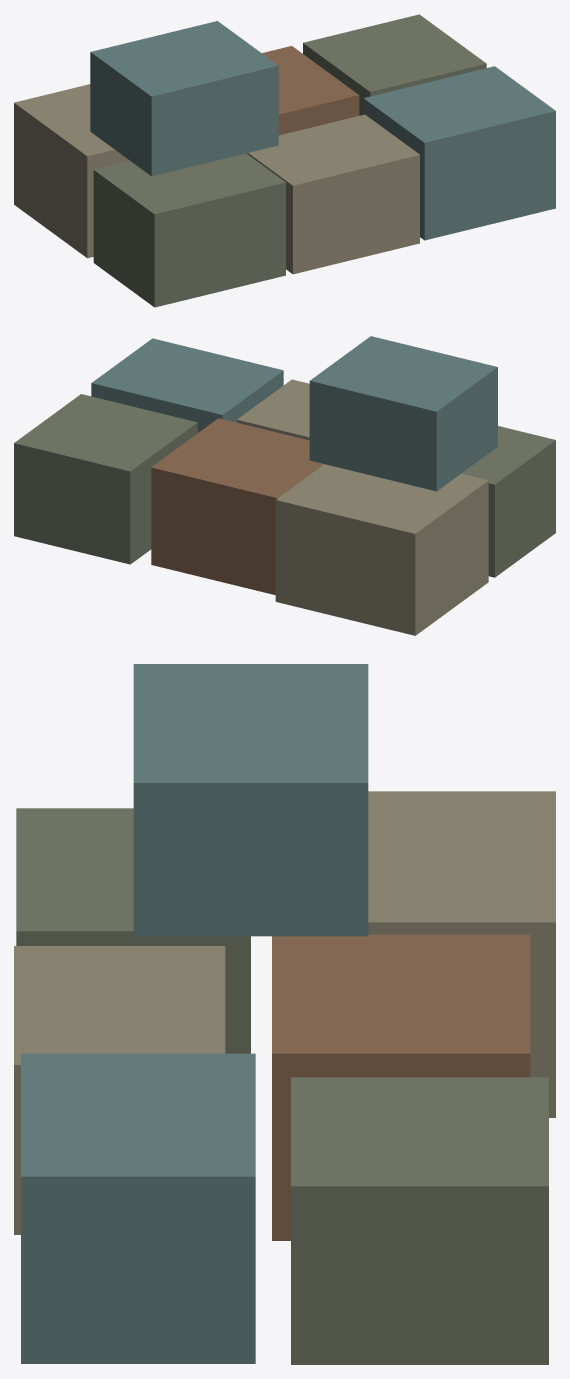
File: supplies_flat.glb
3 renders of one model, top to bottom at view 1: azimuth 30°, elevation 25°; view 2: azimuth 150°, elevation 25°; view 3: azimuth 270°, elevation 25°, orthographic. The views are drawn at different scales.
Parts seen in each view (by area): view 1: supplies_base; view 2: supplies_base; view 3: supplies_base.
Boxes of the visible parts, bbox=[...] form: supplies_base: bbox=[14, 14, 555, 307]; supplies_base: bbox=[14, 336, 555, 635]; supplies_base: bbox=[14, 664, 555, 1364].
Bounding box in the file's own units: 0.4763 × 0.205 × 0.2888.
